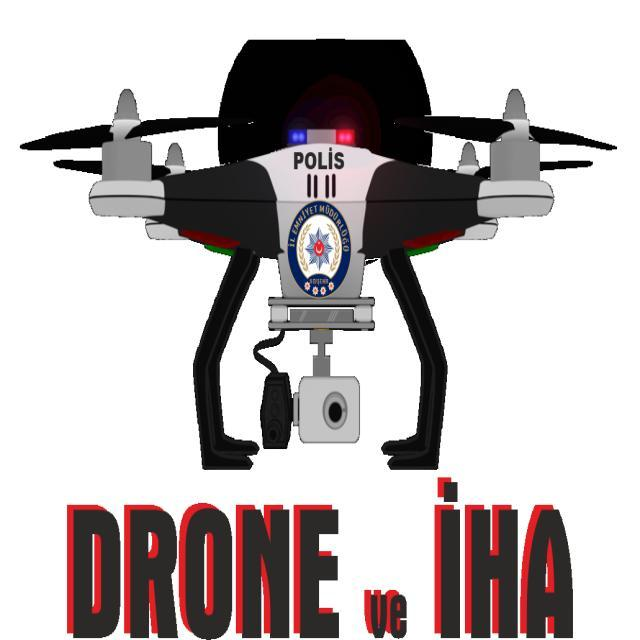drones: (9, 76, 612, 484)
